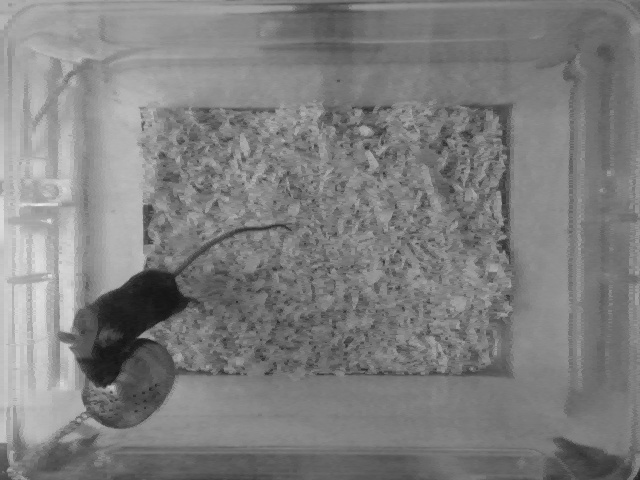mice: (59, 220, 295, 389)
